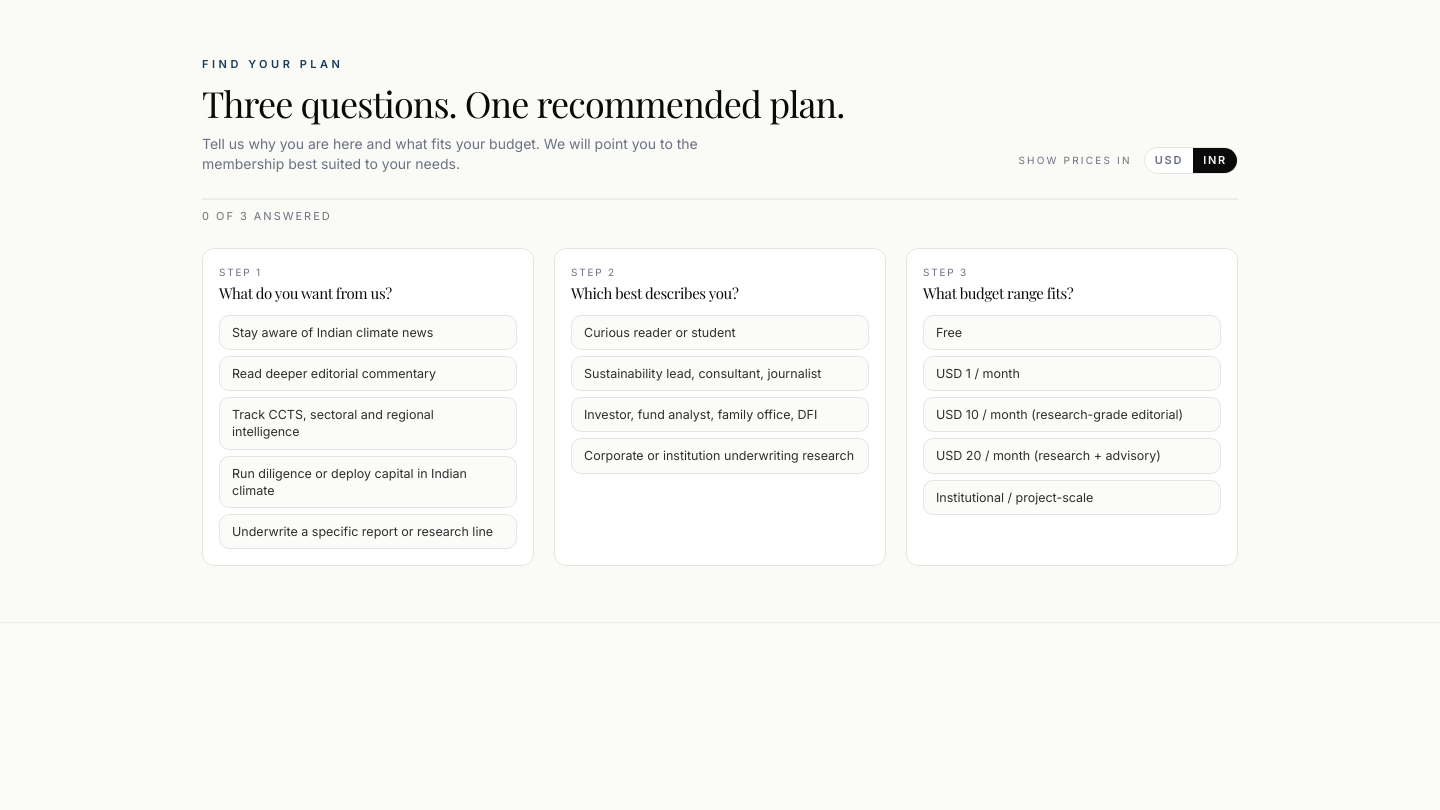
TierFinder scoring › recommends Sponsor when goal + role + institutional budget align
Click the button "Underwrite a specific report or research line".
click(368, 532)  # box x1=219 y1=514 x2=517 y2=549
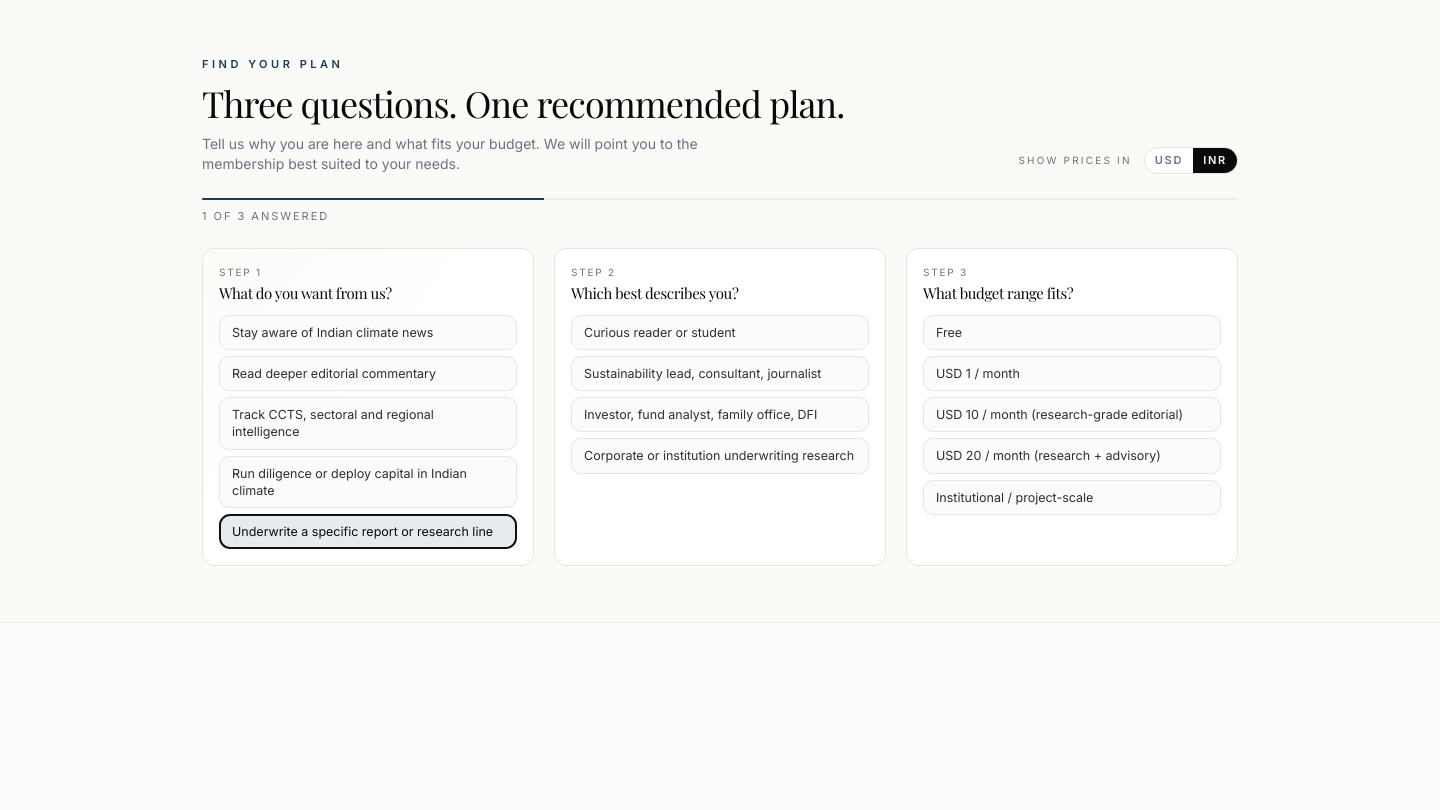
Click the button "Corporate or institution underwriting research".
click(720, 456)  # box x1=571 y1=438 x2=869 y2=474
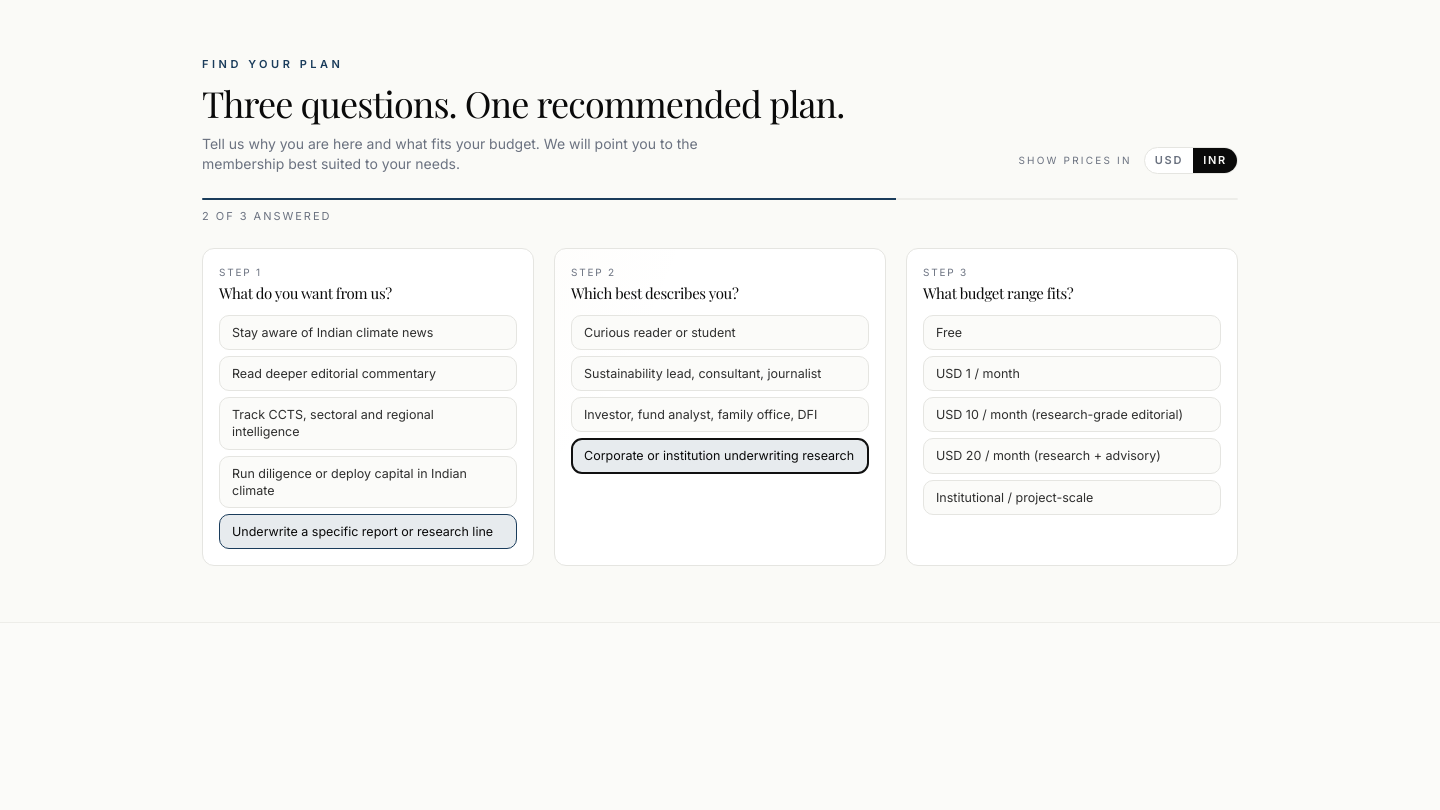
Click the button "Institutional / project-scale".
click(1072, 497)  # box x1=923 y1=480 x2=1221 y2=515
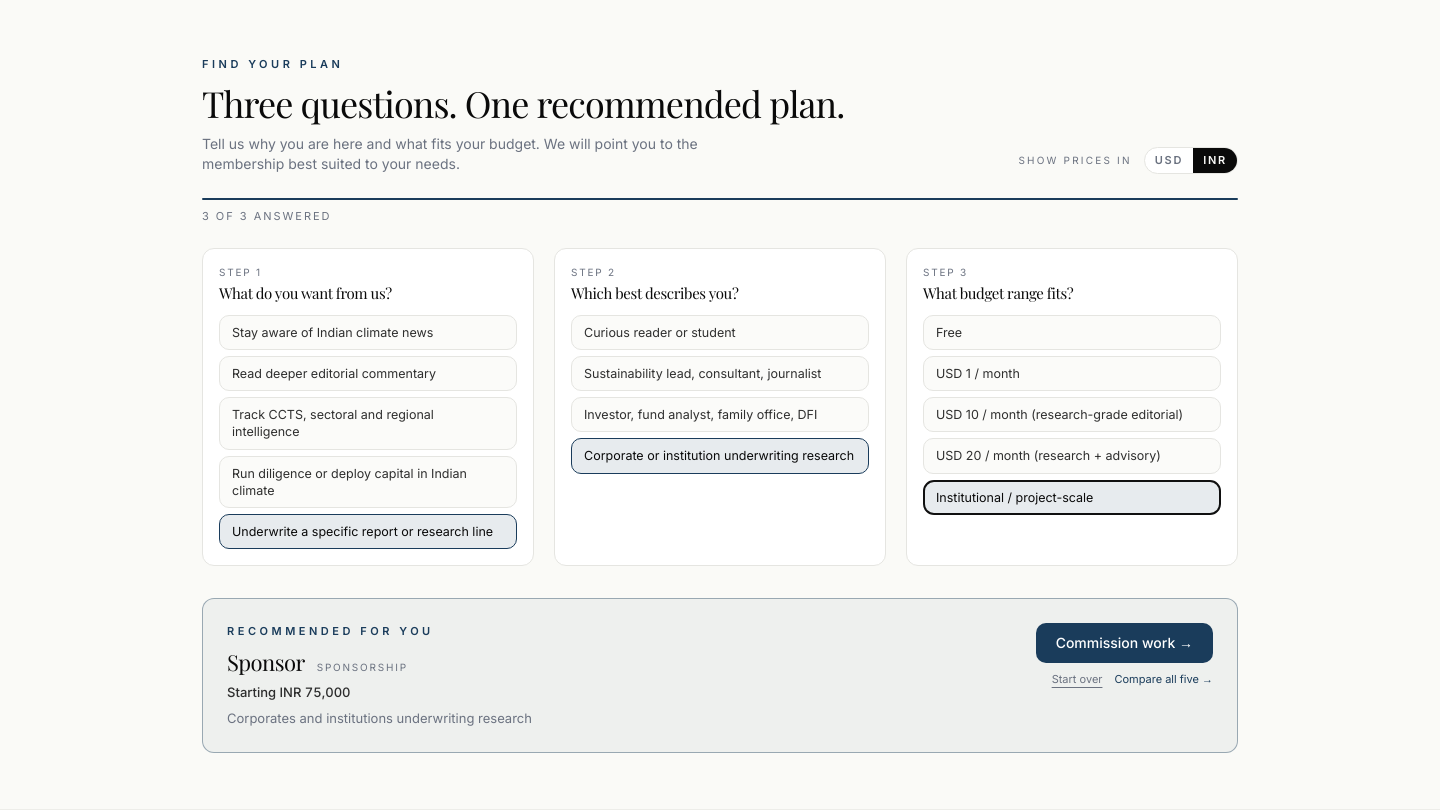
Now the heading "Sponsor" is shown, box x1=227 y1=646 x2=305 y2=679
